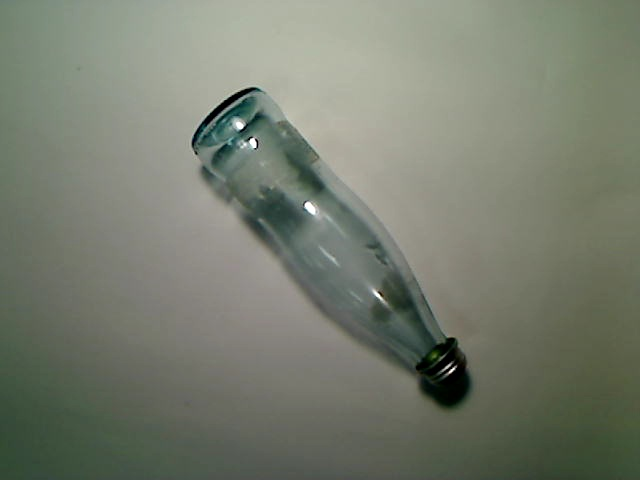bottle: (191, 87, 468, 386)
